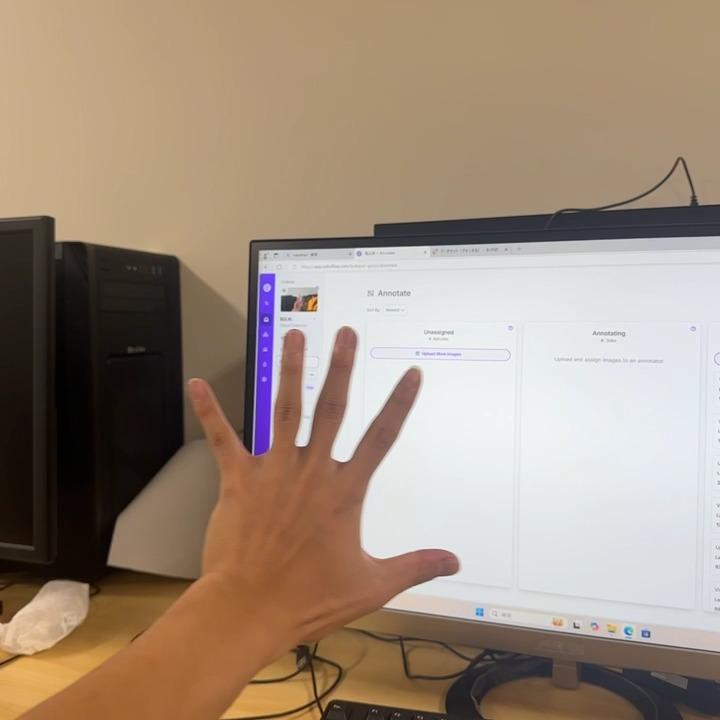without_gloves: (136, 234, 429, 638)
